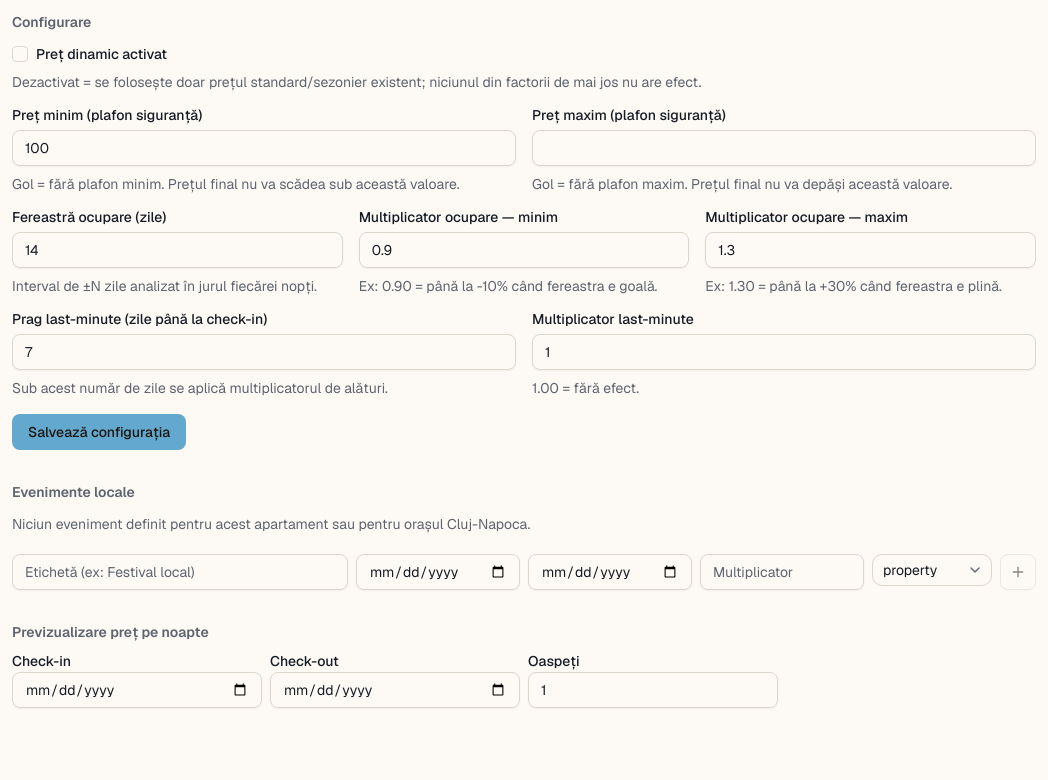
Test: PricingAdminSection › local events form › keeps 'Adaugă eveniment' disabled until label, dates, and a positive multiplier are all set
Expected: the button named "Adaugă eveniment" is disabled, [1000,554,1036,590]
Type "Festival" into the field with placeholder "Etichetă (ex: Festival local)" at (180, 572), box [12,554,348,590]
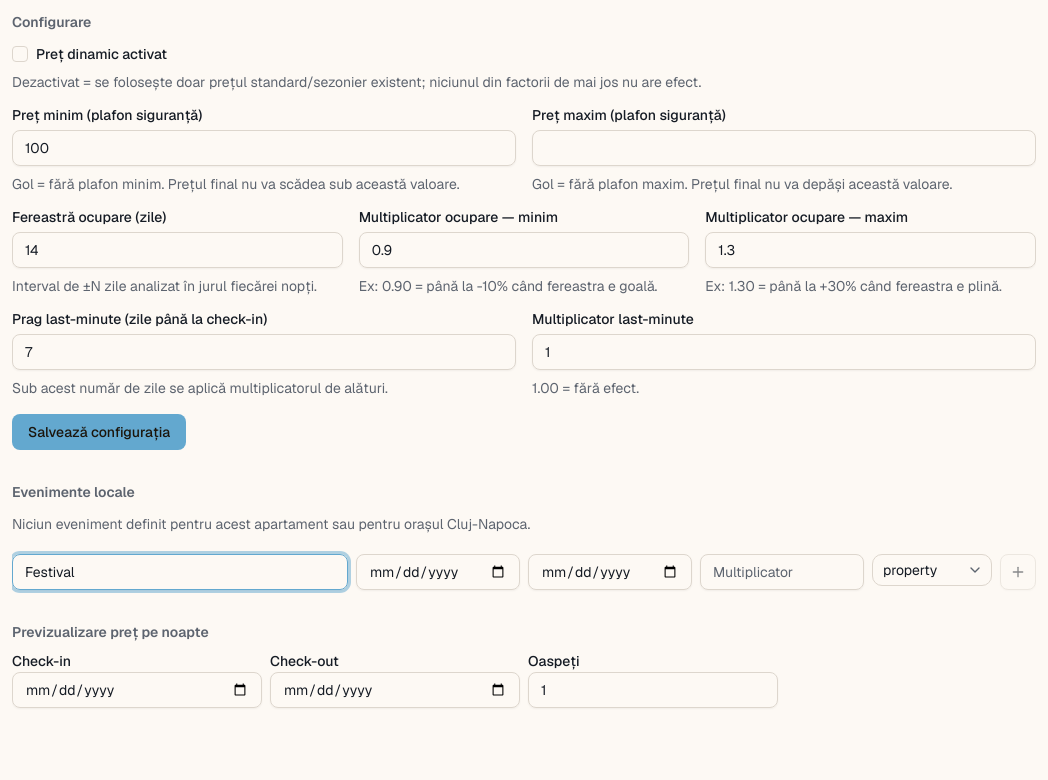
Expected: the button named "Adaugă eveniment" is disabled, [1000,554,1036,590]
Type "2026-09-10" into the 1st date field at (438, 572), box [356,554,520,590]
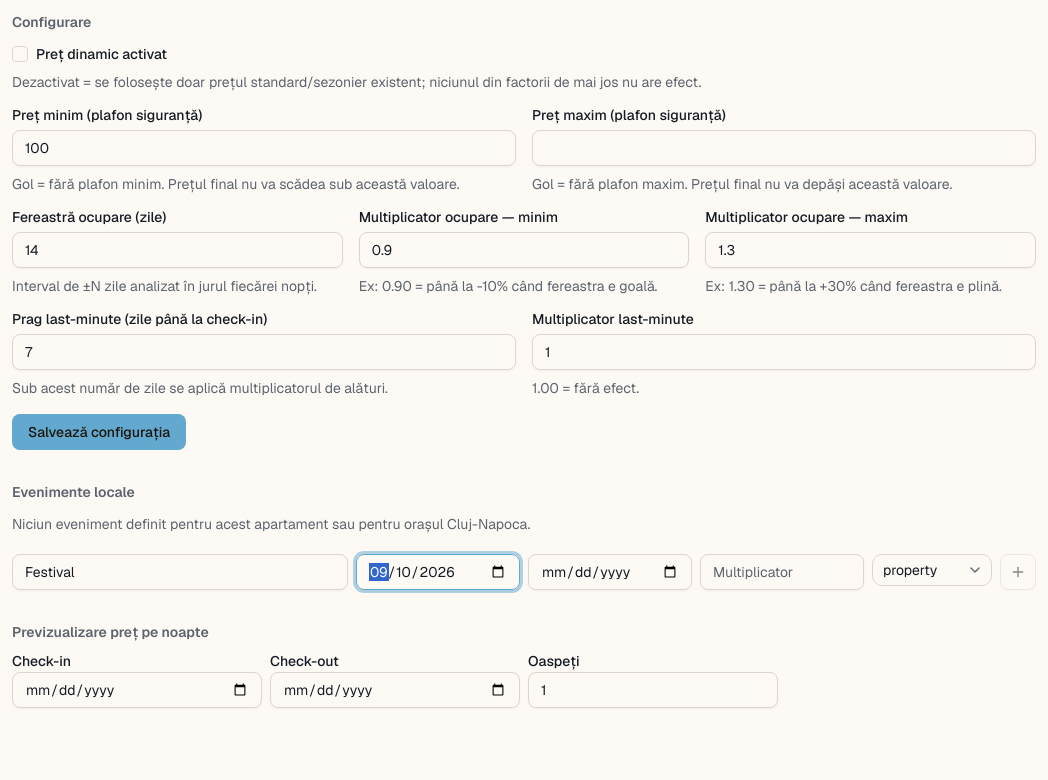
Type "2026-09-15" into the 2nd date field at (610, 572), box [528,554,692,590]
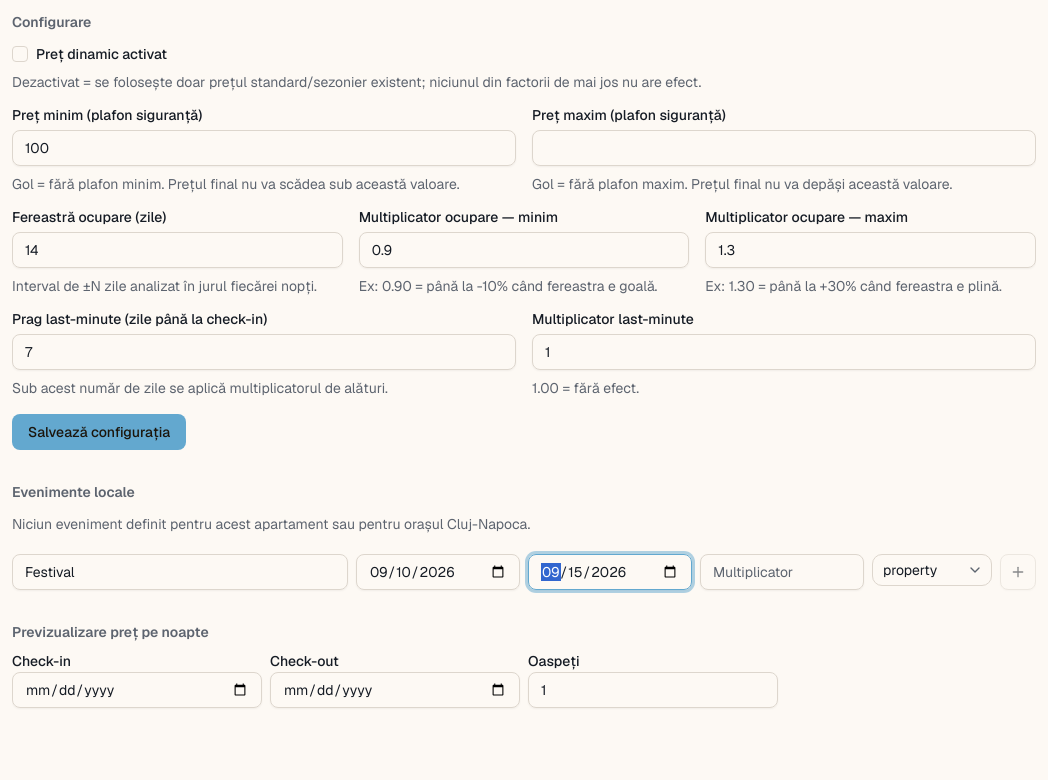
Expected: the button named "Adaugă eveniment" is disabled, [1000,554,1036,590]
Type "1.5" into the number field with placeholder "Multiplicator" at (782, 572), box [700,554,864,590]
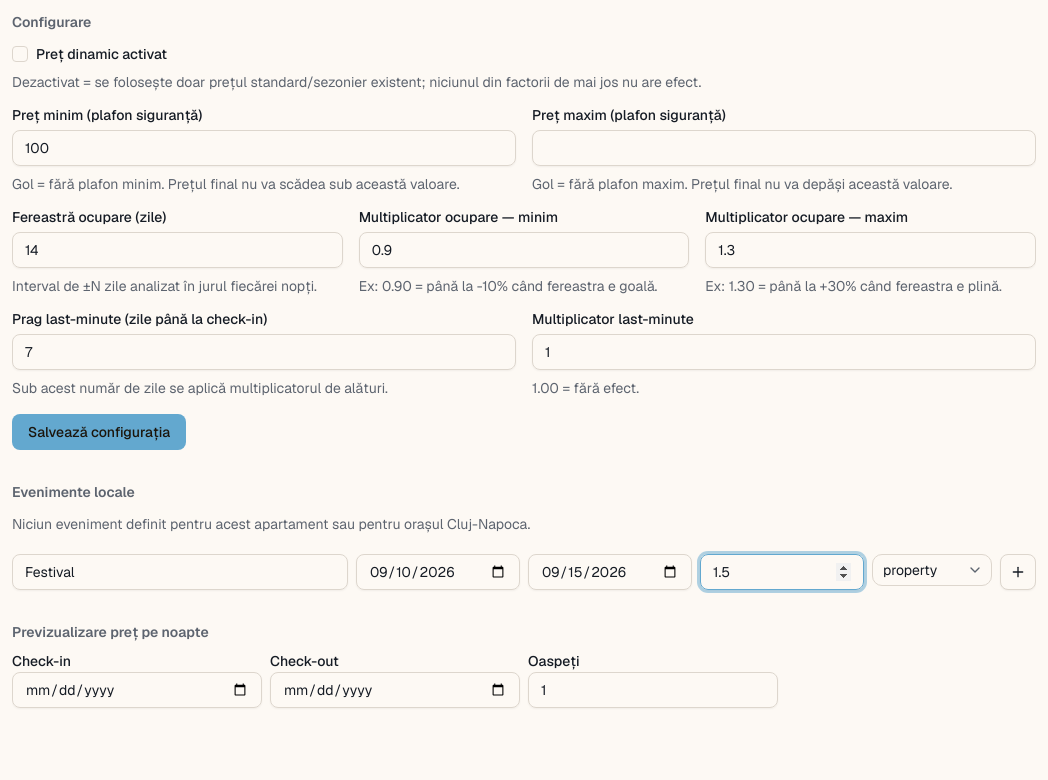
Expected: the button named "Adaugă eveniment" is enabled, [1000,554,1036,590]
